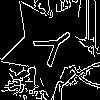Y: (25, 20, 79, 74)
